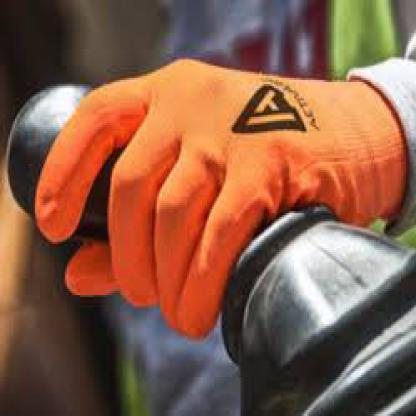with_gloves: (33, 55, 408, 338)
